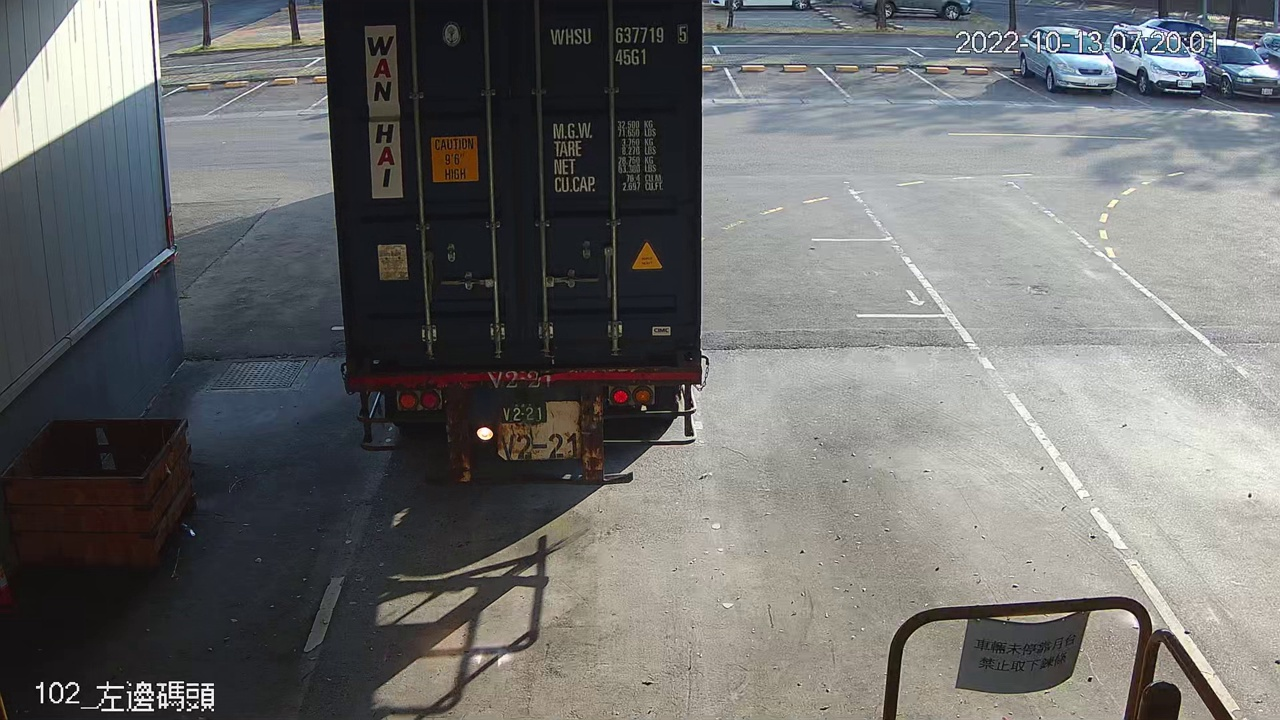container: (543, 19, 694, 71)
